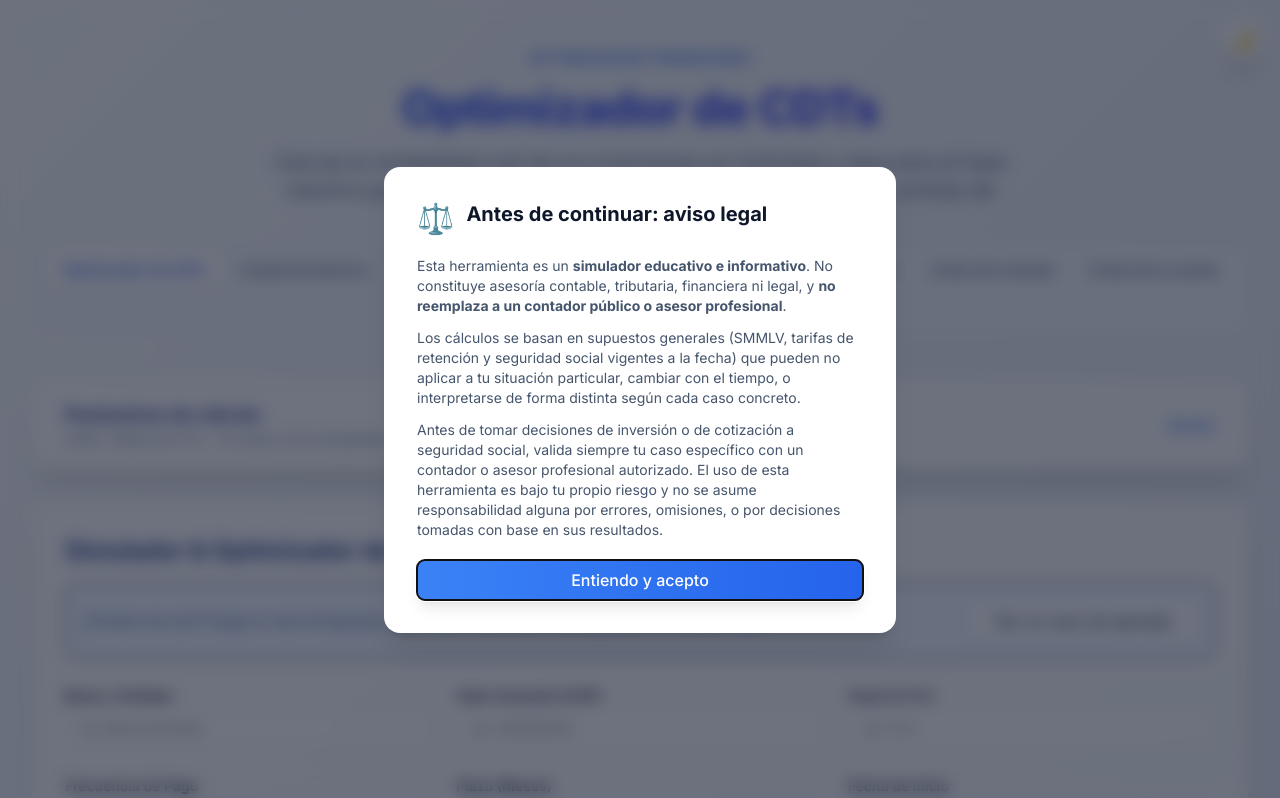
it: App › cambiar a la pestaña de rentabilidad real muestra la cadena completa y oculta las otras
This screenshot has width=1280, height=798.
Step 1. Click the button "Entiendo y acepto" → coordinates (640, 580), box x1=417 y1=560 x2=863 y2=600
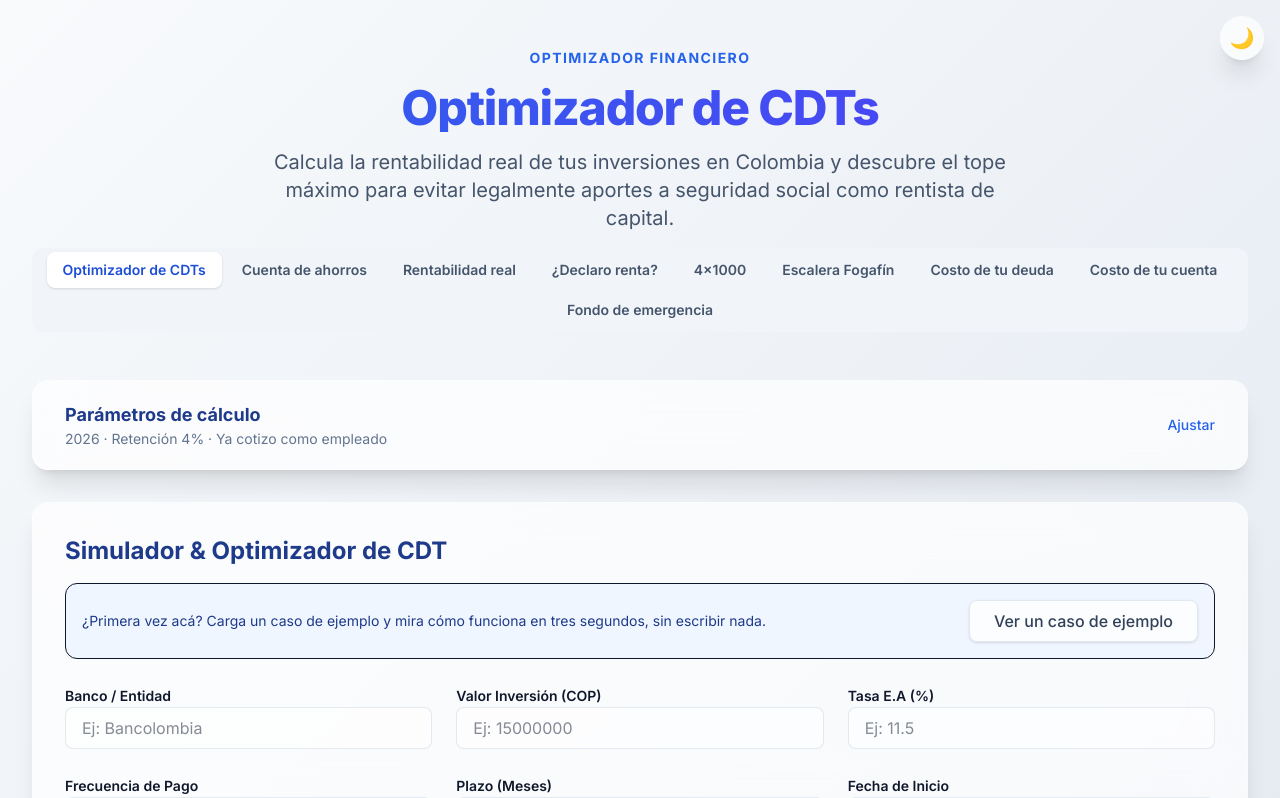
Step 2. Click the link "Rentabilidad real" → coordinates (459, 270), box x1=403 y1=261 x2=516 y2=278
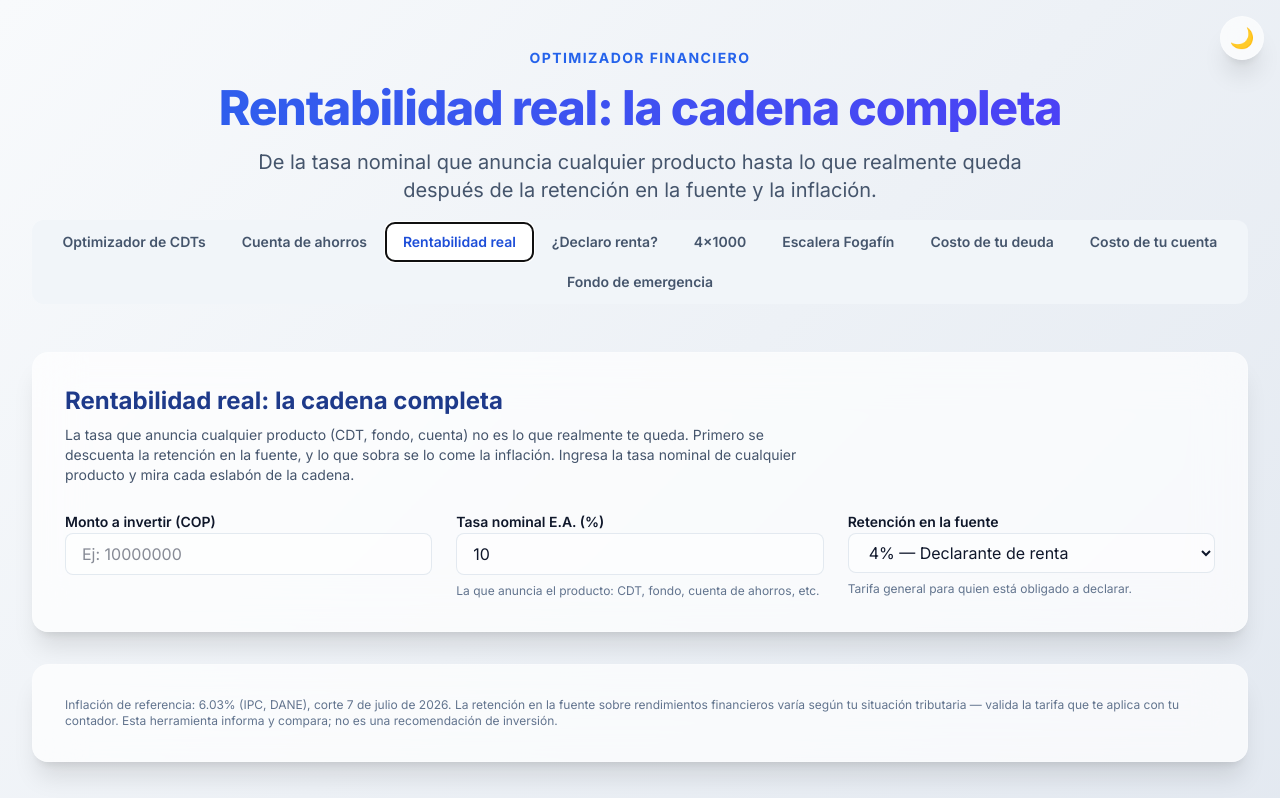
expect the heading "Rentabilidad real: la cadena completa" below "Optimizador Financiero" is shown: met, box x1=32 y1=84 x2=1248 y2=132
expect the heading "Simulador & Optimizador de CDT" is gone: met
